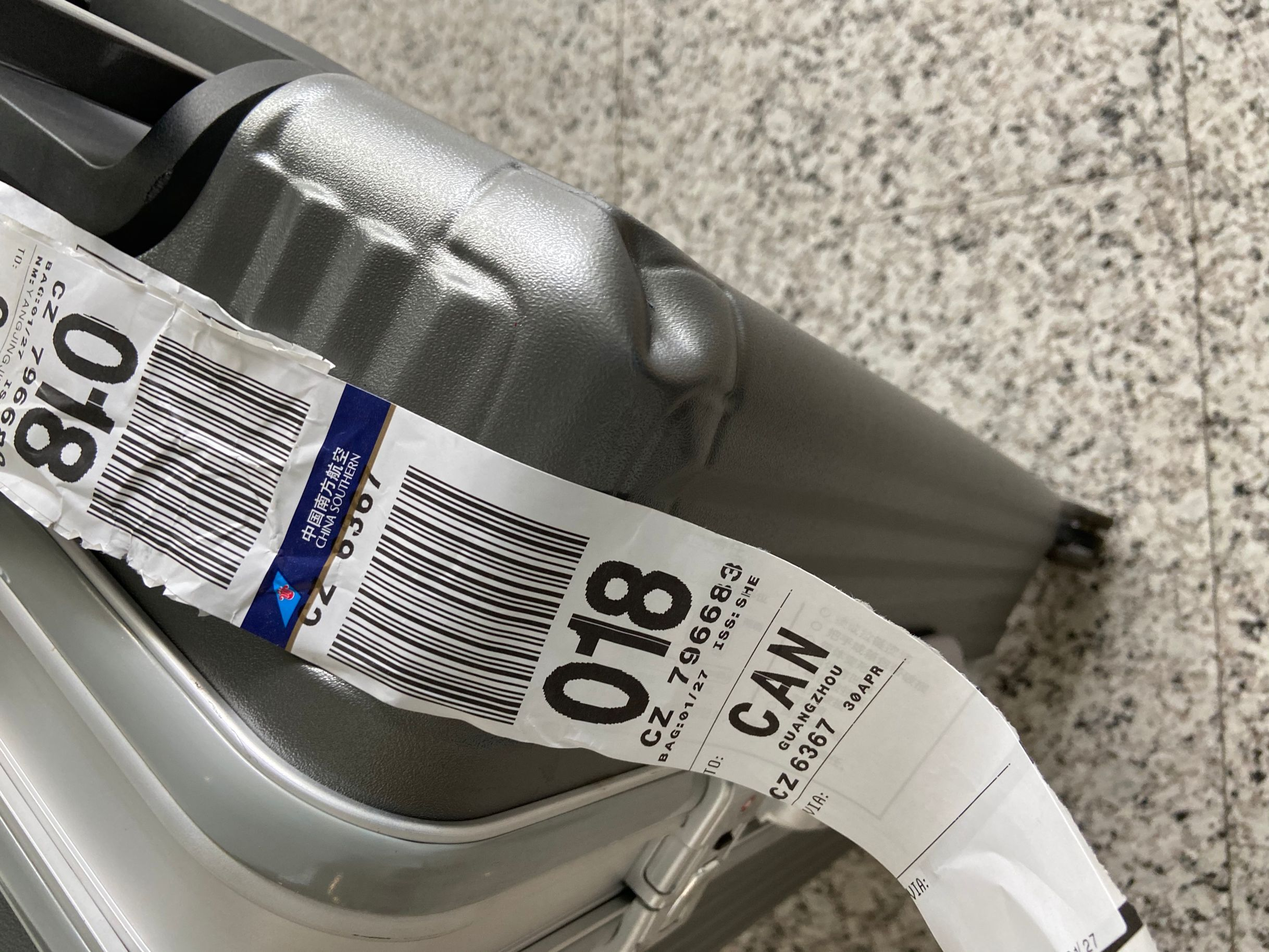rupture: (601, 204, 715, 385)
